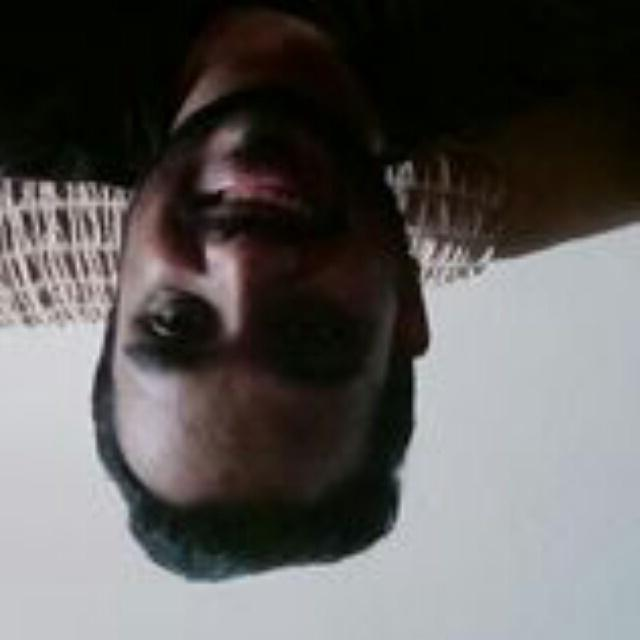Happy: (72, 90, 434, 538)
